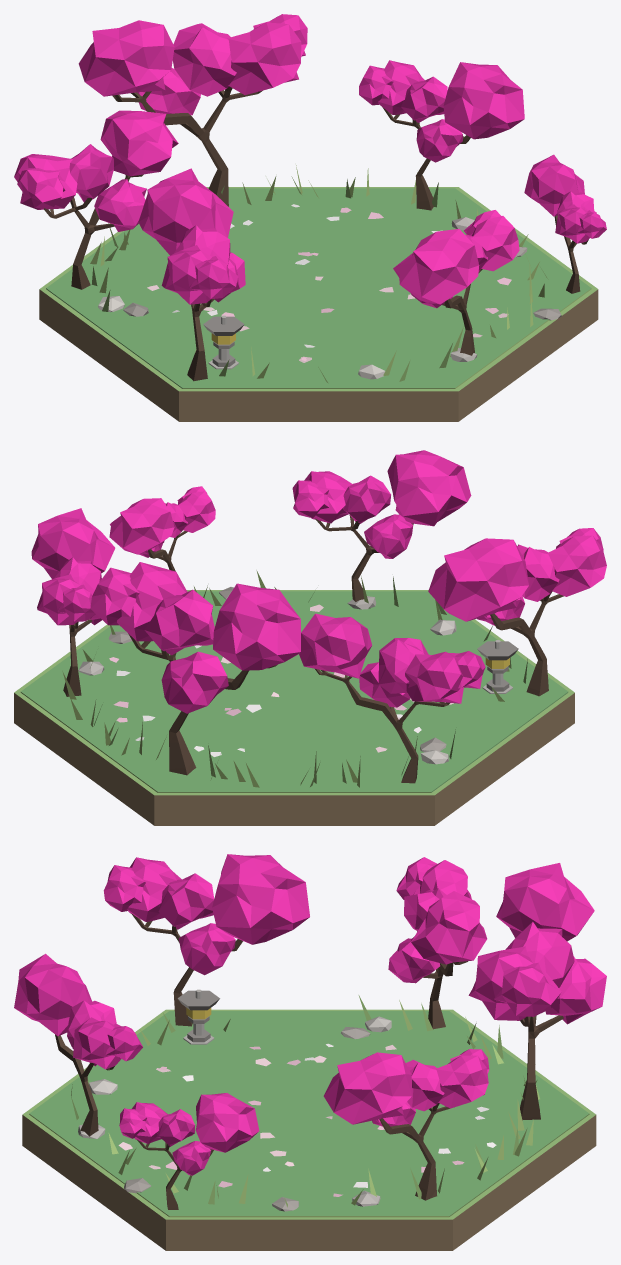
Rendered from sakura_keystone_sprint3_pointY.glb.
3 renders of one model, top to bottom at view 1: azimuth 30°, elevation 25°; view 2: azimuth 150°, elevation 25°; view 3: azimuth 270°, elevation 25°, orthographic. The views are drawn at different scales.
Parts seen in each view (by area): view 1: GrassTerrain, HexBase, Icosphere.005, Icosphere.025, Icosphere.010, Icosphere.020, Icosphere.007, Icosphere, Icosphere.008, Cube.001, Icosphere.015, Icosphere.004 (+20 smaller); view 2: GrassTerrain, HexBase, Icosphere.010, Icosphere.005, Icosphere.020, Icosphere.025, Icosphere, Icosphere.008, Icosphere.009, Icosphere.012, Icosphere.015, Icosphere.007 (+20 smaller); view 3: GrassTerrain, HexBase, Icosphere.010, Icosphere.005, Icosphere.025, Icosphere.020, Icosphere, Icosphere.015, Icosphere.006, Icosphere.007, Icosphere.009, Icosphere.013 (+24 smaller).
Boxes of the visible parts, x1=… form: GrassTerrain: x1=46, y1=188, x2=591, y2=388; HexBase: x1=39, y1=187, x2=598, y2=421; Icosphere.005: x1=78, y1=20, x2=174, y2=96; Icosphere.025: x1=443, y1=62, x2=524, y2=139; Icosphere.010: x1=138, y1=168, x2=233, y2=255; Icosphere.020: x1=393, y1=229, x2=479, y2=304; Icosphere.007: x1=227, y1=22, x2=301, y2=94; Icosphere: x1=100, y1=110, x2=178, y2=176; Icosphere.008: x1=172, y1=23, x2=236, y2=96; Cube.001: x1=112, y1=86, x2=262, y2=206; Icosphere.015: x1=524, y1=154, x2=584, y2=216; Icosphere.004: x1=94, y1=179, x2=146, y2=231; GrassTerrain: x1=20, y1=591, x2=568, y2=792; HexBase: x1=14, y1=590, x2=574, y2=825; Icosphere.010: x1=428, y1=538, x2=528, y2=621; Icosphere.005: x1=213, y1=583, x2=300, y2=670; Icosphere.020: x1=387, y1=450, x2=471, y2=526; Icosphere.025: x1=31, y1=508, x2=115, y2=579; Icosphere: x1=299, y1=613, x2=372, y2=678; Icosphere.008: x1=144, y1=589, x2=214, y2=655; Icosphere.009: x1=161, y1=651, x2=228, y2=713; Icosphere.012: x1=547, y1=535, x2=606, y2=596; Icosphere.015: x1=109, y1=498, x2=174, y2=554; Icosphere.007: x1=117, y1=562, x2=187, y2=641; GrassTerrain: x1=29, y1=1011, x2=589, y2=1217; HexBase: x1=22, y1=1009, x2=596, y2=1250; Icosphere.010: x1=212, y1=854, x2=309, y2=944; Icosphere.005: x1=496, y1=863, x2=594, y2=941; Icosphere.025: x1=323, y1=1052, x2=411, y2=1124; Icosphere.020: x1=14, y1=953, x2=91, y2=1036; Icosphere: x1=411, y1=891, x2=487, y2=964; Icosphere.015: x1=195, y1=1093, x2=259, y2=1152; Icosphere.006: x1=494, y1=962, x2=561, y2=1016; Icosphere.007: x1=468, y1=946, x2=557, y2=1020; Icosphere.009: x1=545, y1=956, x2=606, y2=1024; Icosphere.013: x1=158, y1=873, x2=214, y2=929.
Size of the model in its own units: 4.83 by 2.26 by 5.17.
